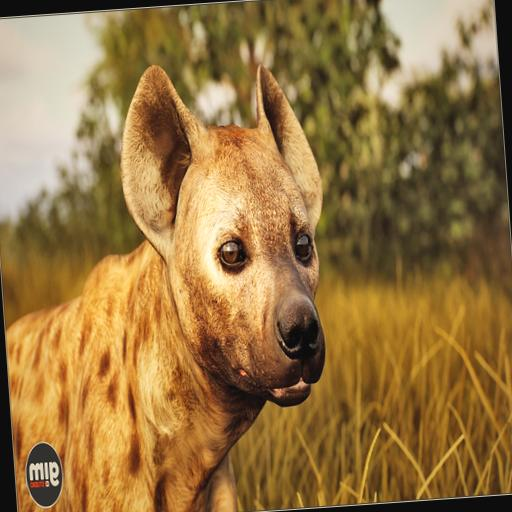hyenas: (0, 44, 361, 512)
